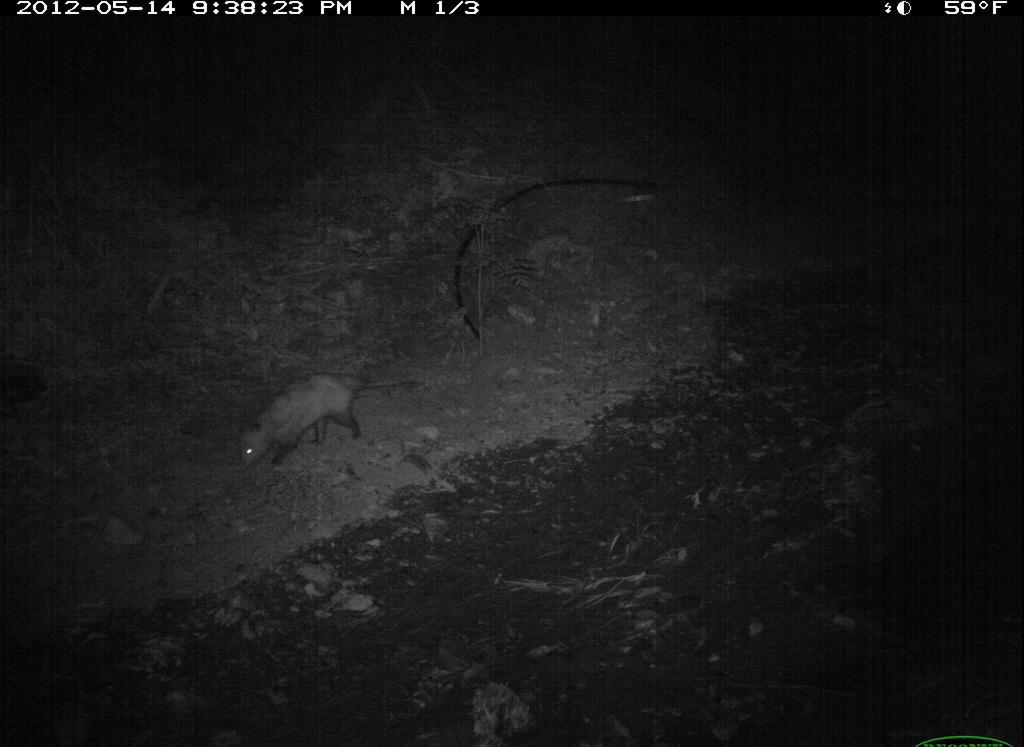opossum: (217, 360, 424, 484)
